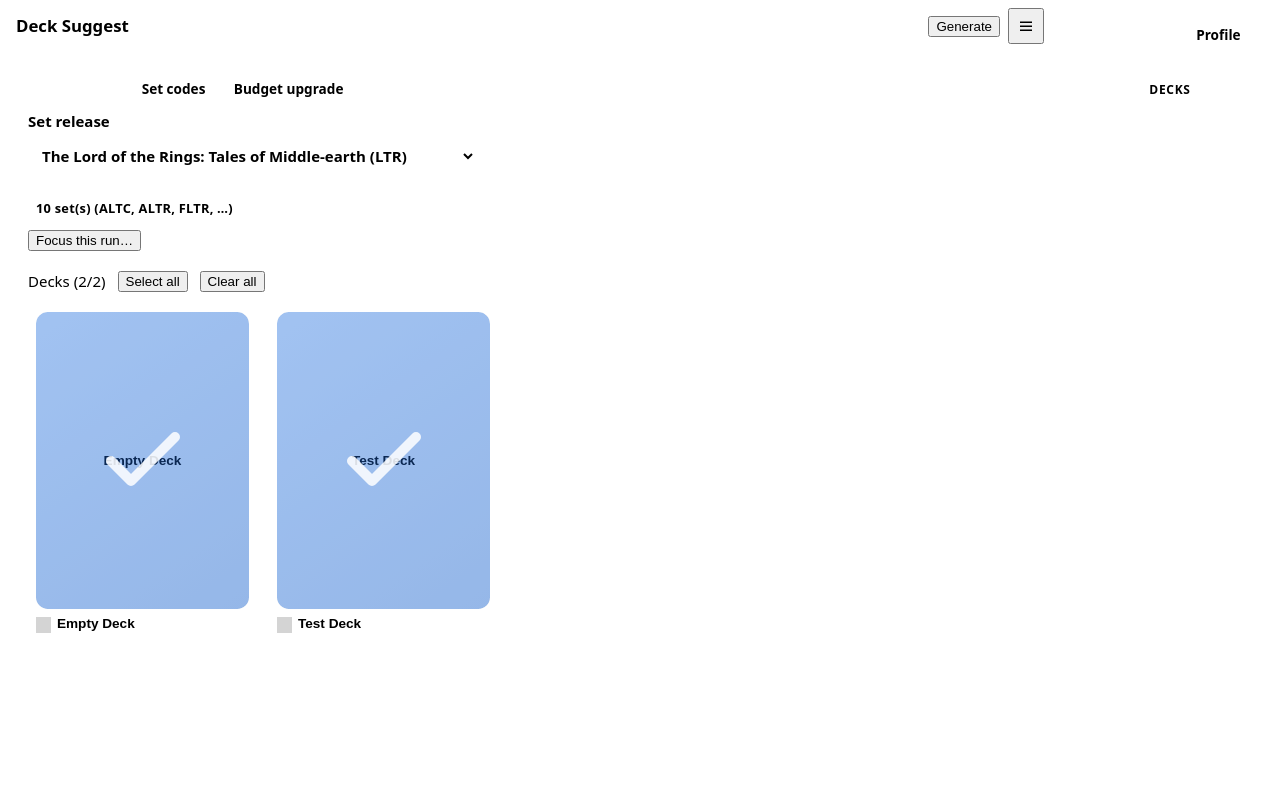
Test: DeckSuggestApp generate to review › shows generation error in the error banner
Expected: the checkbox labelled "Test Deck" is shown, [277,312,490,634]
What coordinates should you click on to do the following:
click the button "Generate"
I would click on:
 (964, 26)
Its box is [928,16,1000,36].
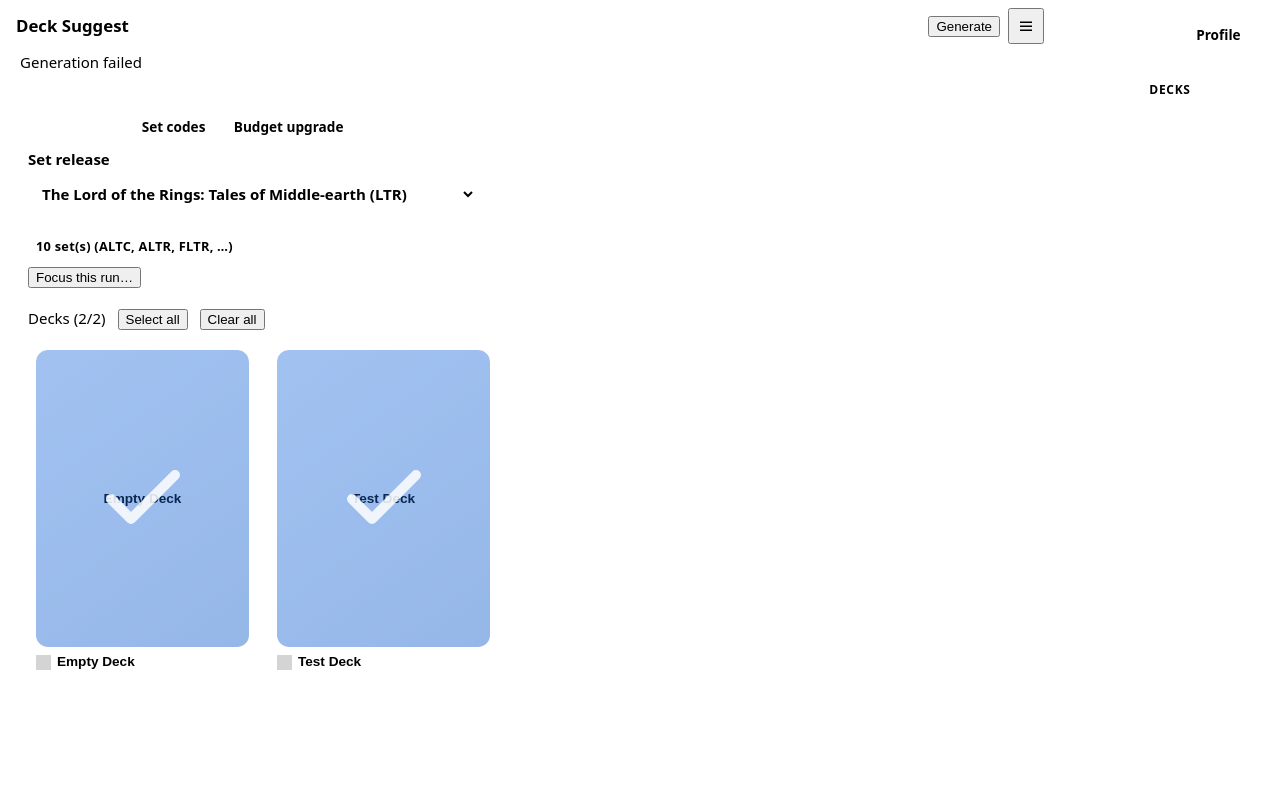
Expected: the text "Generation failed" is shown, [20,52,142,72]
